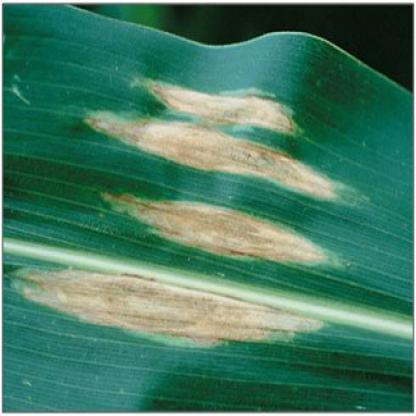Corn leaf blight: (7, 13, 415, 395)
